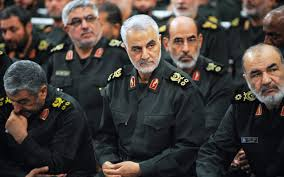middle_eastern_male: (128, 23, 162, 70)
